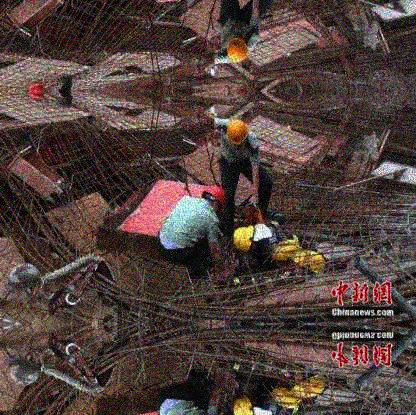helmet: (296, 254, 327, 280), (202, 185, 226, 214), (224, 32, 247, 62), (226, 120, 246, 149), (275, 241, 295, 269)
